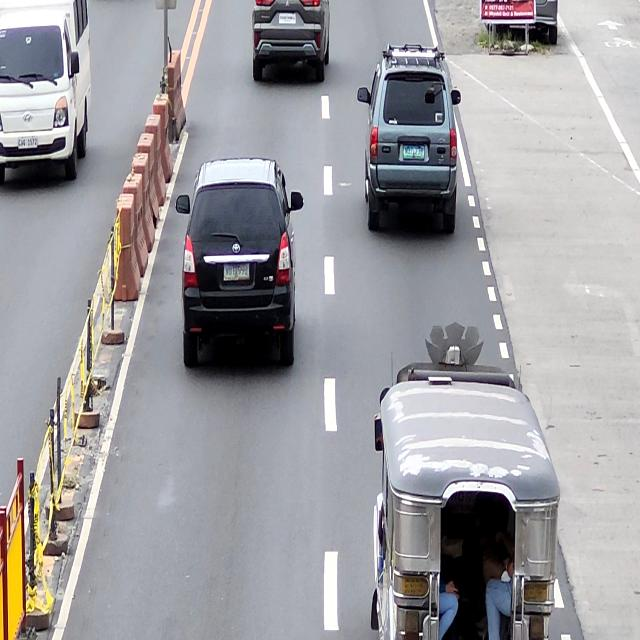Car: (178, 158, 304, 372), (357, 47, 462, 236), (252, 0, 330, 81)
Jeep: (372, 362, 560, 640)
License-Plate: (223, 264, 250, 282), (402, 145, 424, 161), (278, 14, 297, 24)
